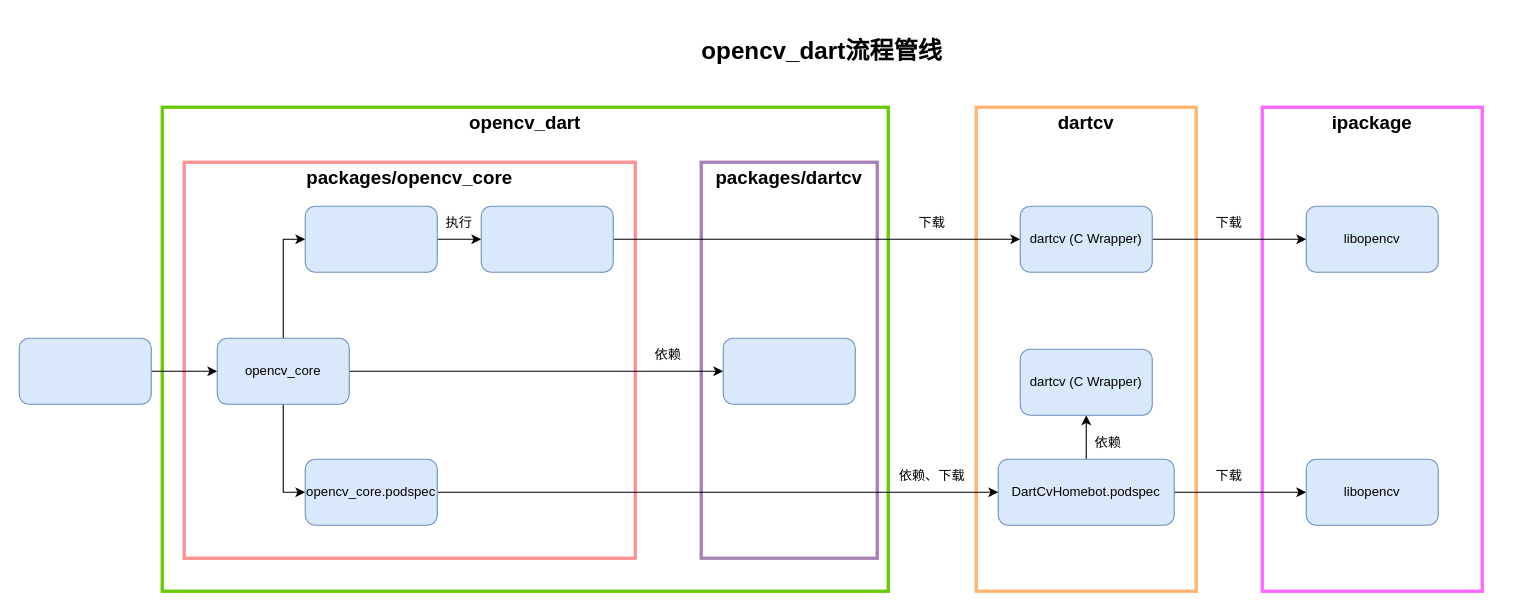
Image size: 1529x612. Some labels were removed from this diagram. Here are the shapes that lost their labels. From the top down, the box of each, then its label:
(304, 205, 437, 272): build.gradle
(480, 205, 613, 272): src/CMakeLists.txt
(18, 337, 151, 404): Flutter Project
(722, 337, 855, 404): dartcv4 (FFI & Header)
